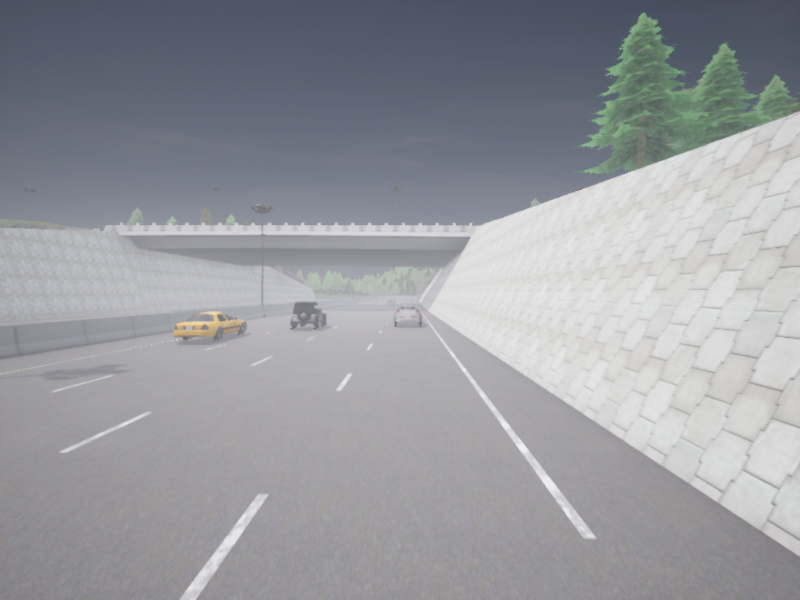vehicle: (173, 310, 246, 340), (290, 302, 326, 328), (394, 304, 421, 325), (387, 299, 395, 305)
